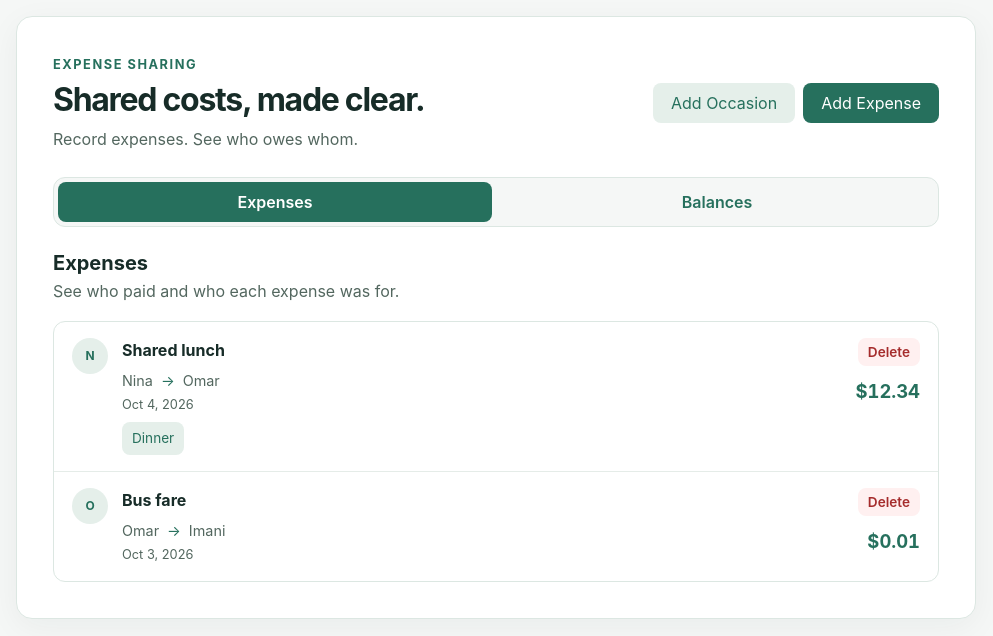
Test: expense sharing views › balances › shows a useful empty state for an empty API array
Check: the list named "Expenses" is shown, box [53,321,939,582]
Click the tab "Balances" at (717, 202), box [500,182,934,222]
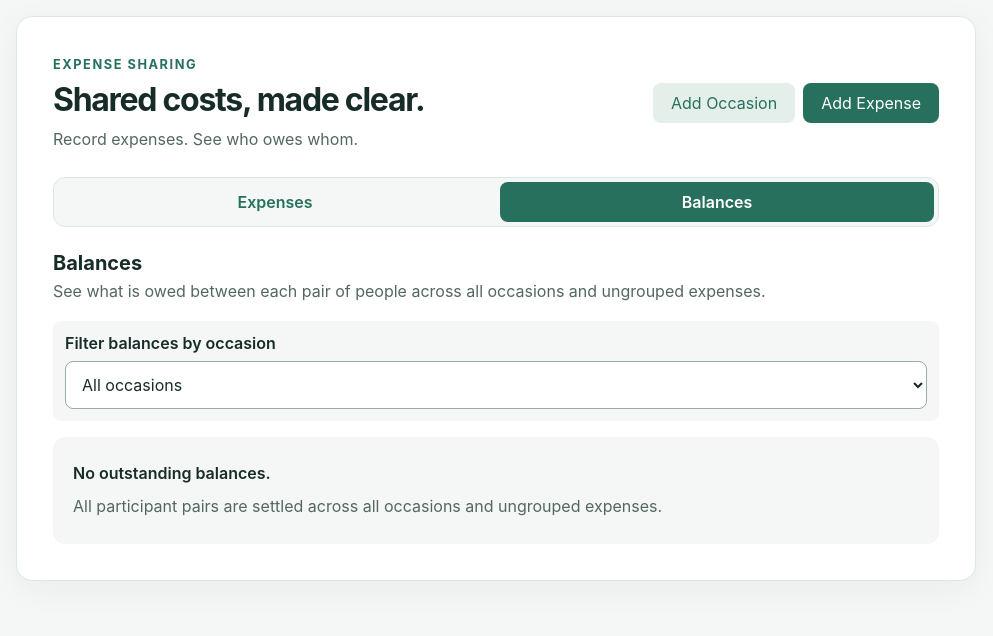
Check: the message shows "No outstanding balances.", box [73,463,271,483]
Check: the list is gone
